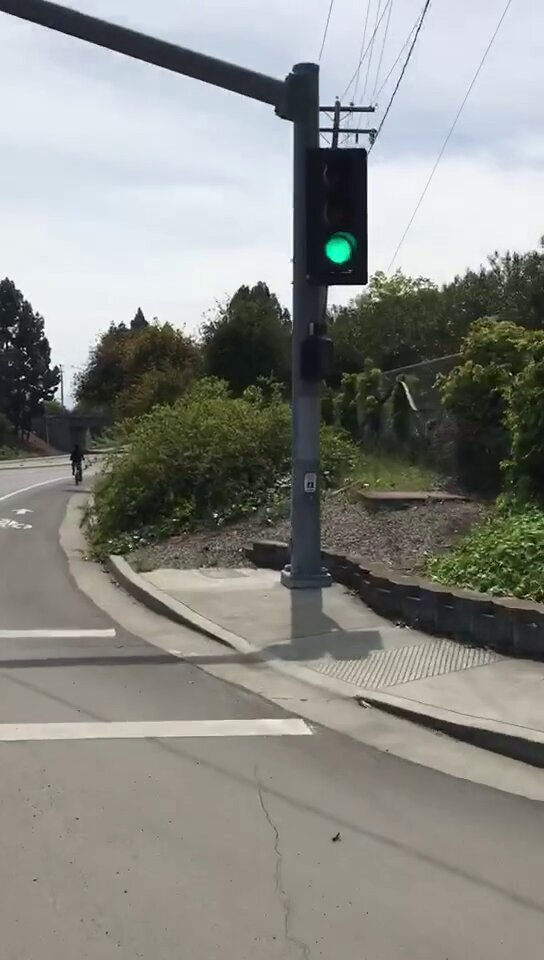green_light: (308, 153, 366, 279)
